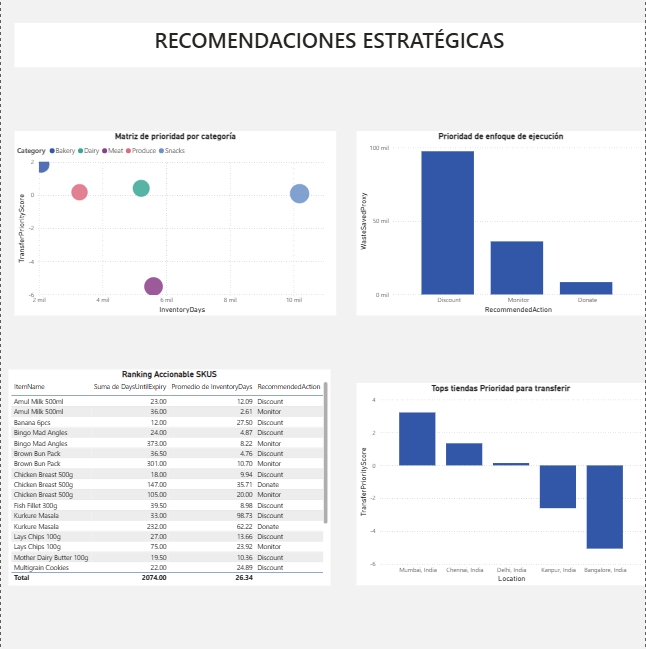

Layout of this report page (visuals, bound fields, positions):
{"tool":"powerbi","page":{"name":"Recomendaciones Estrátegicas","canvas":[1300,1400],"ordinal":4},"visuals":[{"type":"scatterChart","title":"Matriz de prioridad por categoría","fields":{"X":["Sum(Smart_waste_decision_engine.InventoryDays)"],"Y":["Sum(Smart_waste_decision_engine.TransferPriorityScore)"],"Size":["Sum(Smart_waste_decision_engine.WasteSavedProxy)"],"Series":["Smart_waste_decision_engine.Category"]},"box":[27.1,327.1,650,372.9],"z":0},{"type":"columnChart","title":"Prioridad de enfoque de ejecución","fields":{"Category":["Smart_waste_decision_engine.RecommendedAction"],"Y":["Sum(Smart_waste_decision_engine.WasteSavedProxy)"]},"box":[716.7,327.1,583.3,372.9],"z":1000},{"type":"tableEx","title":"Ranking Accionable SKUS","fields":{"Values":["Smart_waste_decision_engine.ItemName","Sum(Smart_waste_decision_engine.DaysUntilExpiry)","Avg(Smart_waste_decision_engine.InventoryDays)","Smart_waste_decision_engine.RecommendedAction"]},"box":[14.6,808.3,650,435.4],"z":2000},{"type":"columnChart","title":"Tops tiendas Prioridad para transferir","fields":{"Category":["Smart_waste_decision_engine.StoreGeo"],"Y":["Sum(Smart_waste_decision_engine.TransferPriorityScore)"]},"box":[716.7,835.4,583.3,408.3],"z":3000},{"type":"textbox","box":[27.1,108.3,1272.9,89.6],"z":4000}]}

Visuals, with their boxes on the page's 1300x1400 design canvas (x1, y1, x2, y2). These are canvas units, not pixel positions in the 646x649 screenshot, which may show the page scaled, cropped or inside an application window:
"Matriz de prioridad por categoría" scatterChart: x1=27 y1=327 x2=677 y2=700
"Prioridad de enfoque de ejecución" columnChart: x1=717 y1=327 x2=1300 y2=700
"Ranking Accionable SKUS" tableEx: x1=15 y1=808 x2=665 y2=1244
"Tops tiendas Prioridad para transferir" columnChart: x1=717 y1=835 x2=1300 y2=1244
textbox: x1=27 y1=108 x2=1300 y2=198
